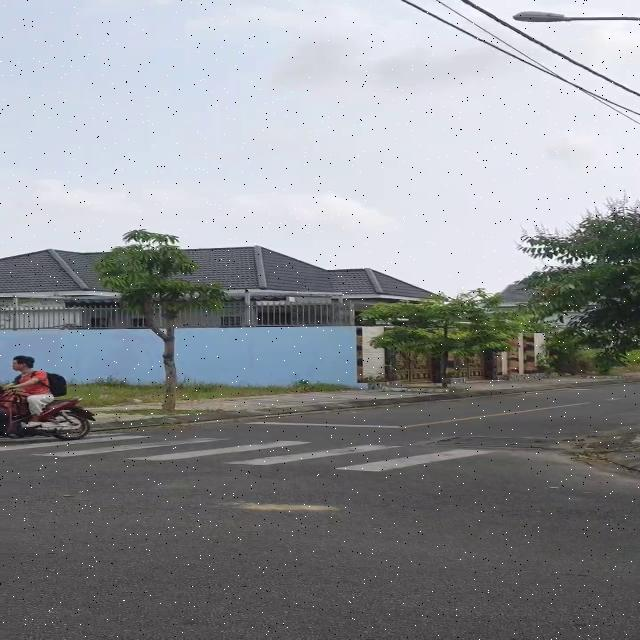without_helmet: (11, 353, 34, 376)
